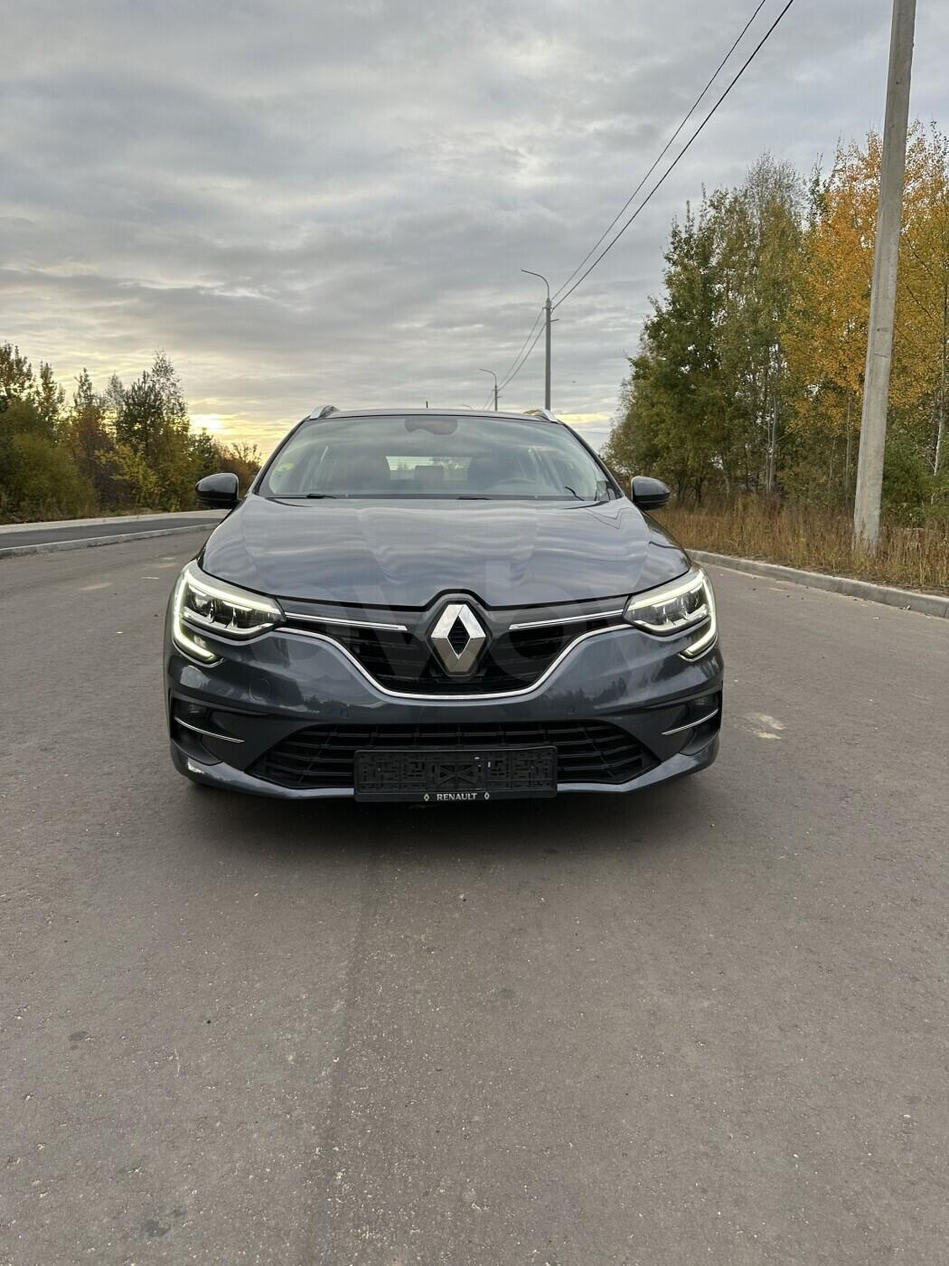Megane_2020: (157, 396, 732, 837)
